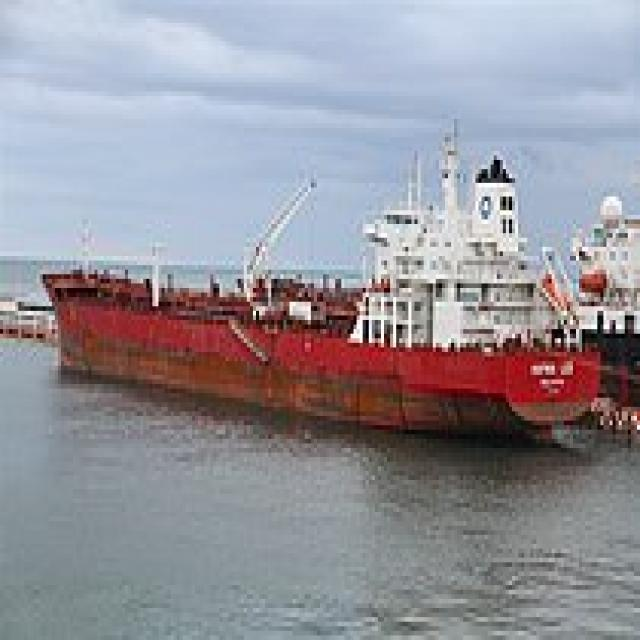Tanker: (34, 119, 604, 439)
